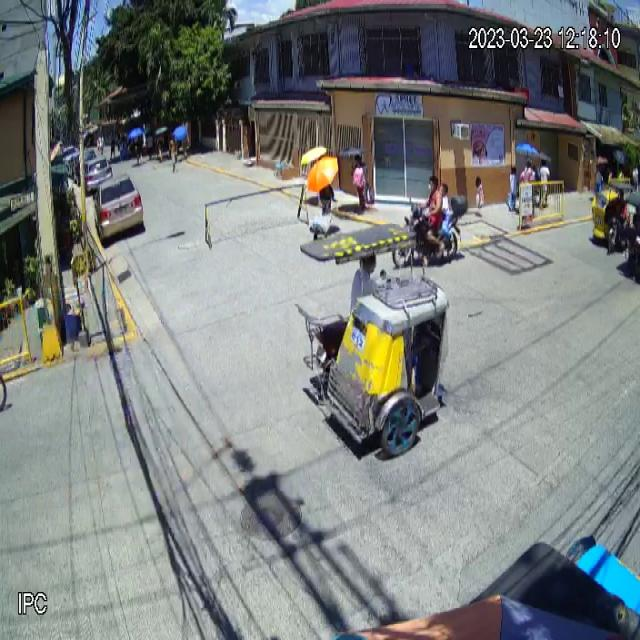Car: (92, 172, 144, 242)
Tricycle: (294, 222, 450, 457)
